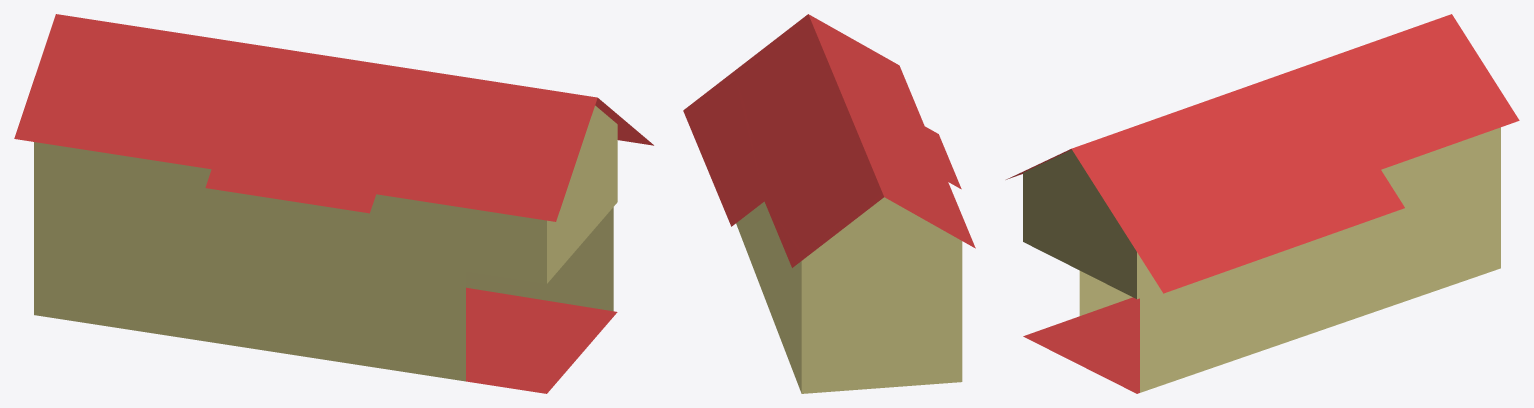
3 views of the same model, side by side, from view 1: azimuth 30°, elevation 25°; view 2: azimuth 150°, elevation 25°; view 3: azimuth 270°, elevation 25° (orthographic). The views are drawn at different scales.
Size of the model in its own units: 28.87 by 29.23 by 13.82.
